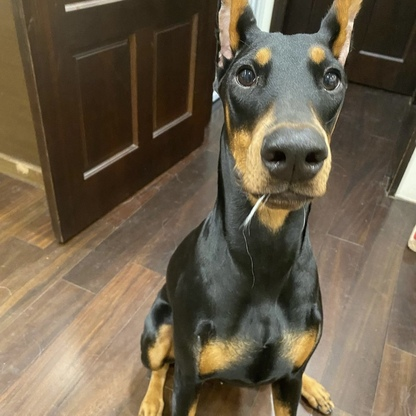doberman: (135, 3, 355, 416)
